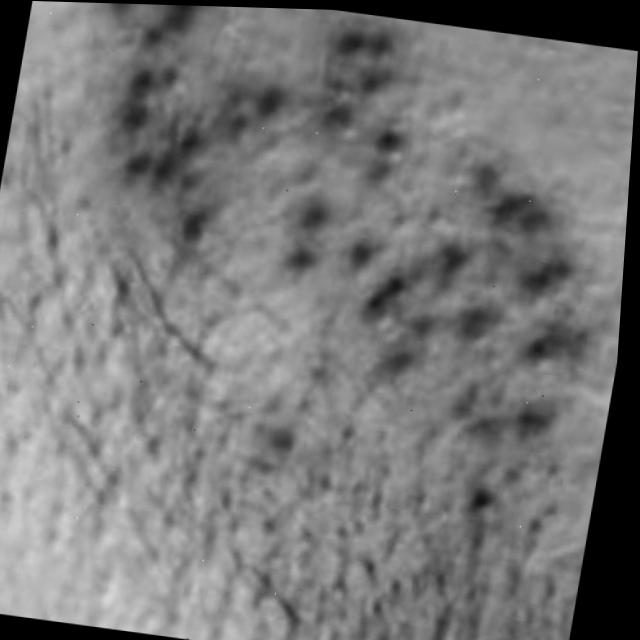Shingles: (44, 2, 640, 474)
